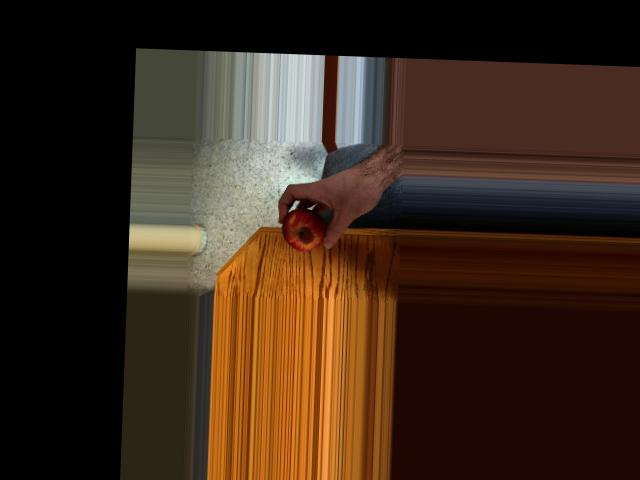apple: (277, 199, 339, 254)
